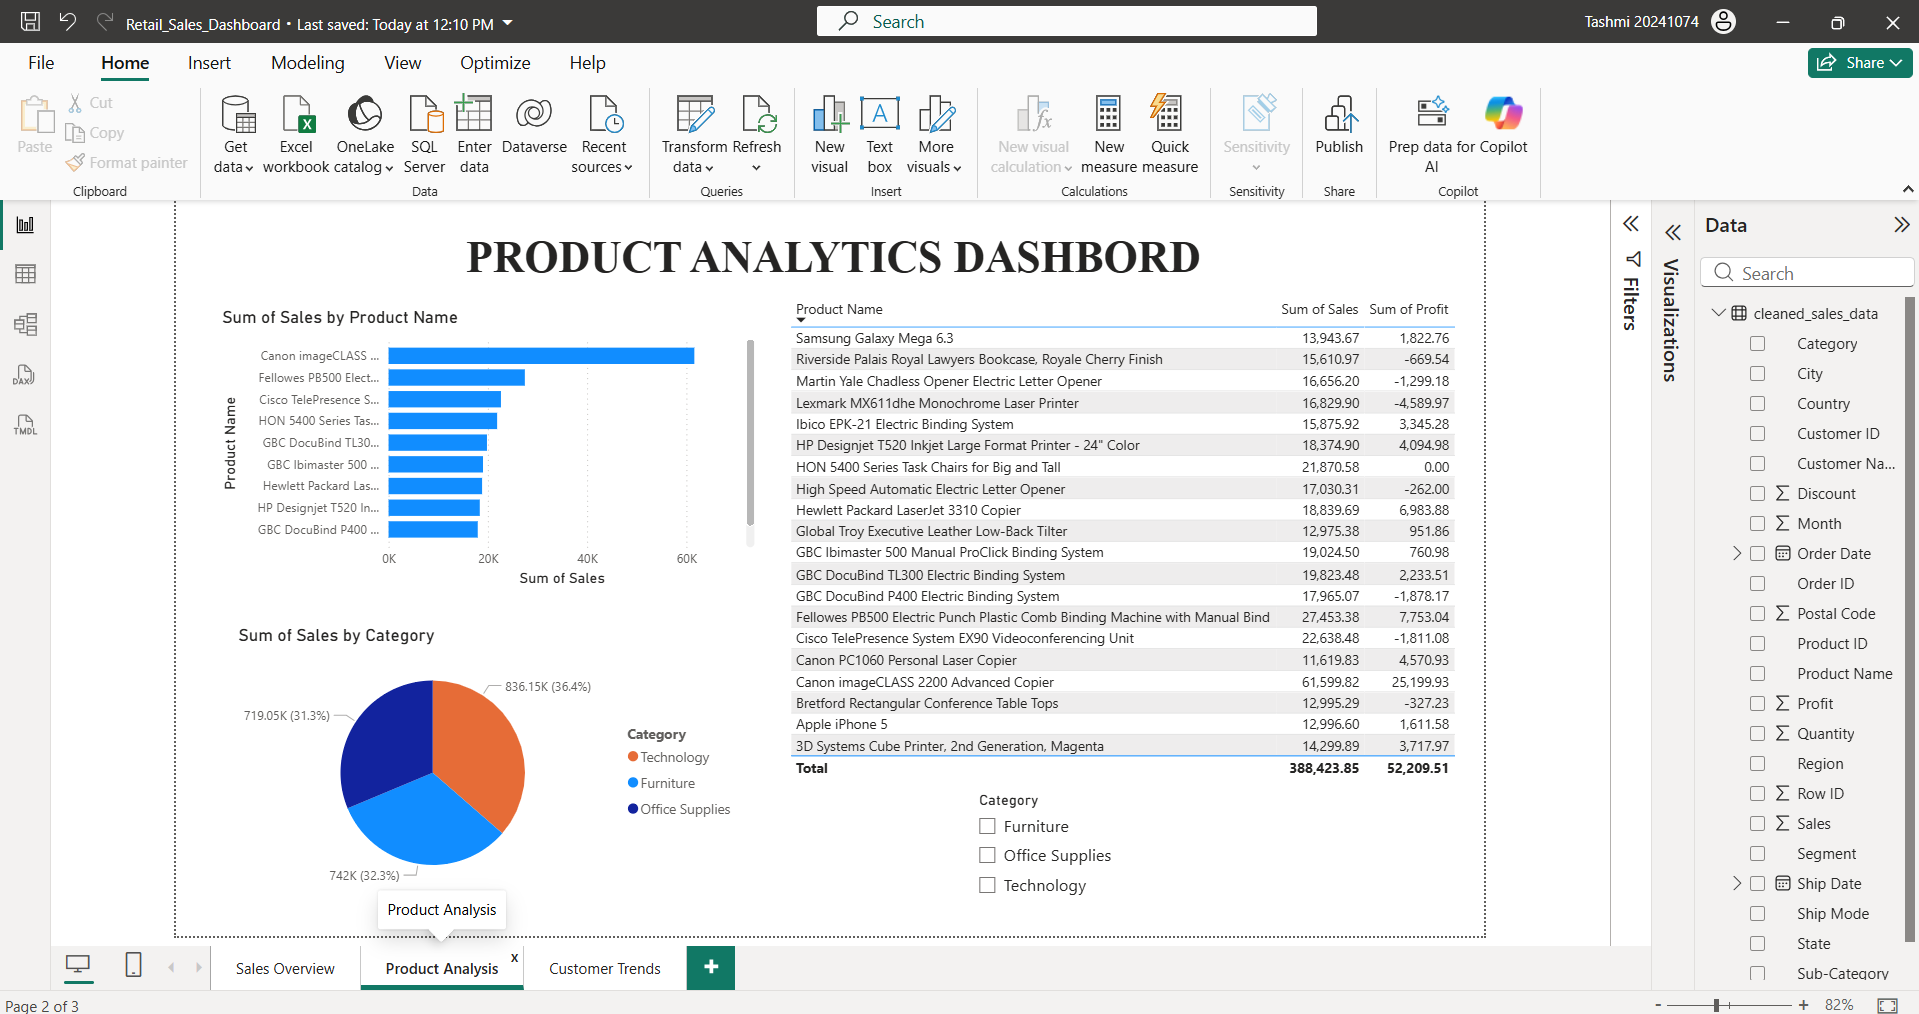

This screenshot's page, from the dashboard's own definition file:
{"tool":"powerbi","page":{"name":"Product Analysis","canvas":[1280,720],"ordinal":1},"visuals":[{"type":"textbox","box":[278.8,26.9,748.4,77],"z":0},{"type":"clusteredBarChart","fields":{"Y":["Sum(cleaned_sales_data.Sales)"],"Category":["cleaned_sales_data.Product Name"]},"box":[40.4,103.9,530.7,278.8],"z":1},{"type":"pieChart","fields":{"Category":["cleaned_sales_data.Category"],"Y":["Sum(cleaned_sales_data.Sales)"]},"box":[56.3,415.8,500.1,270.2],"z":2},{"type":"tableEx","fields":{"Values":["cleaned_sales_data.Product Name","Sum(cleaned_sales_data.Sales)","Sum(cleaned_sales_data.Profit)"]},"box":[595.5,90.5,684.8,483],"z":3},{"type":"slicer","fields":{"Values":["cleaned_sales_data.Category"]},"box":[772.8,573.5,192,121.1],"z":4}]}

Visuals, with their boxes on the page's 1280x720 design canvas (x1, y1, x2, y2). These are canvas units, not pixel positions in the 1919x1014 screenshot, which may show the page scaled, cropped or inside an application window:
textbox: (x1=279, y1=27, x2=1027, y2=104)
clusteredBarChart - Sum(cleaned_sales_data.Sales) x cleaned_sales_data.Product Name: (x1=40, y1=104, x2=571, y2=383)
pieChart - cleaned_sales_data.Category x Sum(cleaned_sales_data.Sales): (x1=56, y1=416, x2=556, y2=686)
tableEx - cleaned_sales_data.Product Name x Sum(cleaned_sales_data.Sales): (x1=596, y1=90, x2=1280, y2=574)
slicer - cleaned_sales_data.Category: (x1=773, y1=574, x2=965, y2=695)
